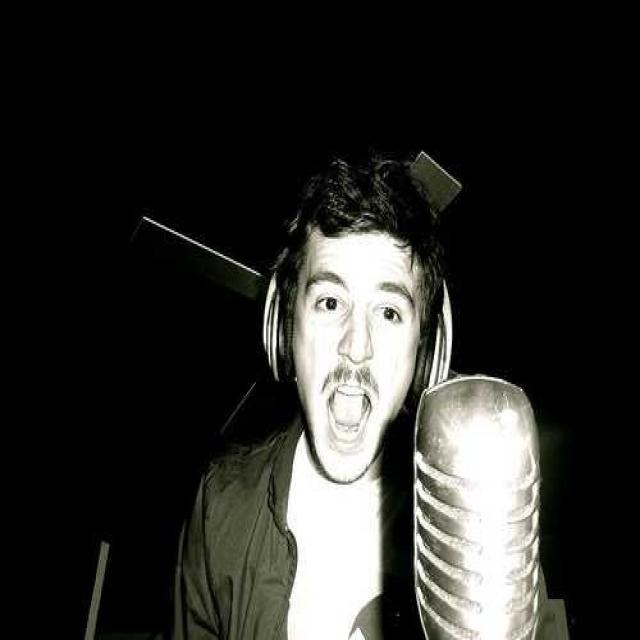microphone: (414, 373, 546, 635)
